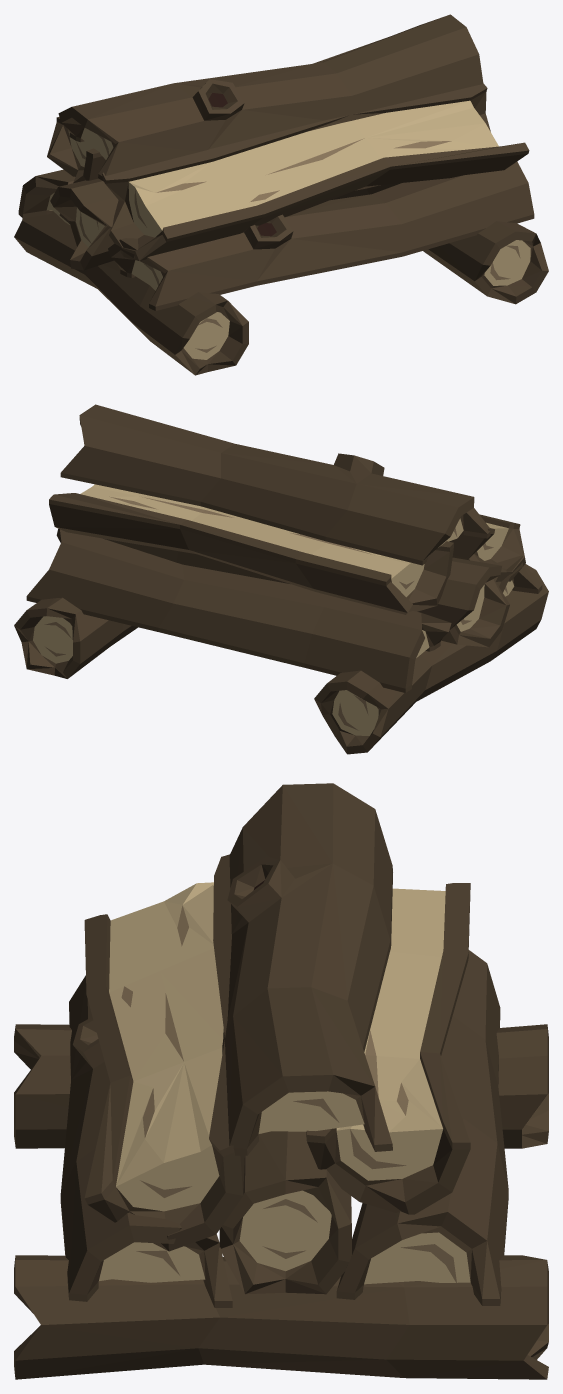
Rendered from logpile.glb.
The picture shows the model from 3 angles, top to bottom: view 1: azimuth 30°, elevation 25°; view 2: azimuth 150°, elevation 25°; view 3: azimuth 270°, elevation 25°; orthographic projection. The views are drawn at different scales.
Parts seen in each view (by area): view 1: SM_Prop_Logpile_01; view 2: SM_Prop_Logpile_01; view 3: SM_Prop_Logpile_01.
Boxes of the visible parts, left/top/right/bottom form: SM_Prop_Logpile_01: left=14, top=14, right=548, bottom=375; SM_Prop_Logpile_01: left=14, top=404, right=548, bottom=754; SM_Prop_Logpile_01: left=14, top=783, right=548, bottom=1379.
Size of the model in its own units: 268 by 141 by 198.
1 material, 1 textured.
